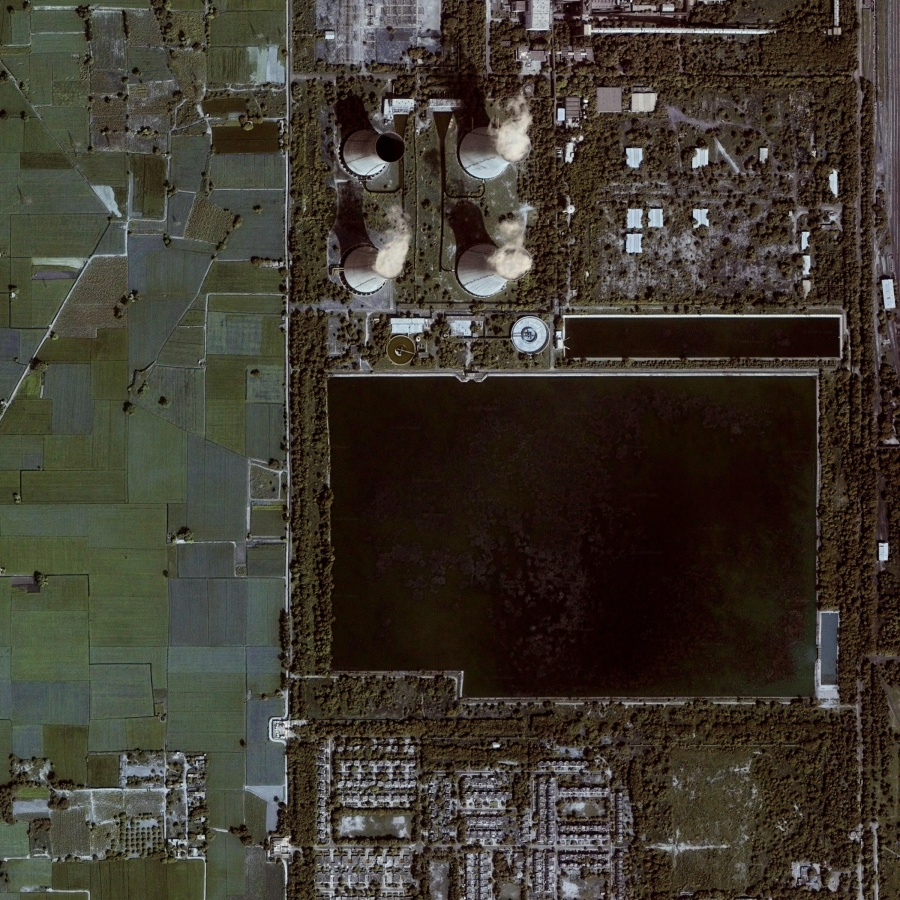PowerPlant: (303, 354, 856, 726)
